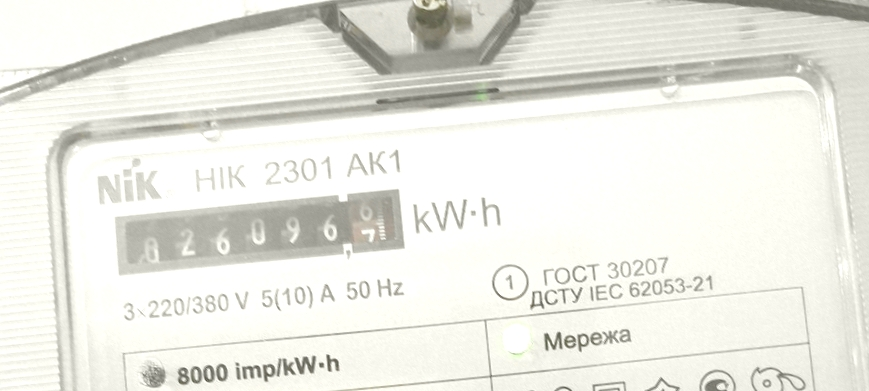0: (244, 214, 267, 250), (137, 232, 160, 266)
2: (172, 224, 197, 261)
6: (209, 223, 232, 260), (317, 210, 338, 244), (353, 196, 374, 225)
7: (356, 225, 376, 247)
9: (280, 213, 302, 247)
screen: (100, 179, 412, 289)
